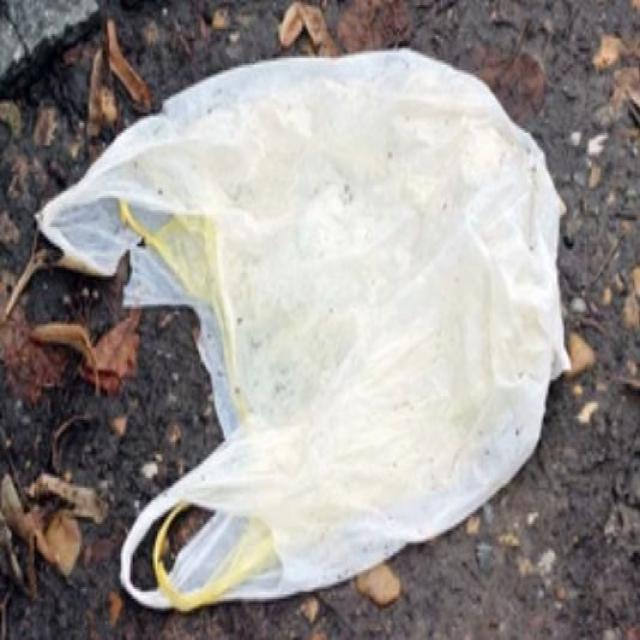general: (32, 44, 572, 613)
